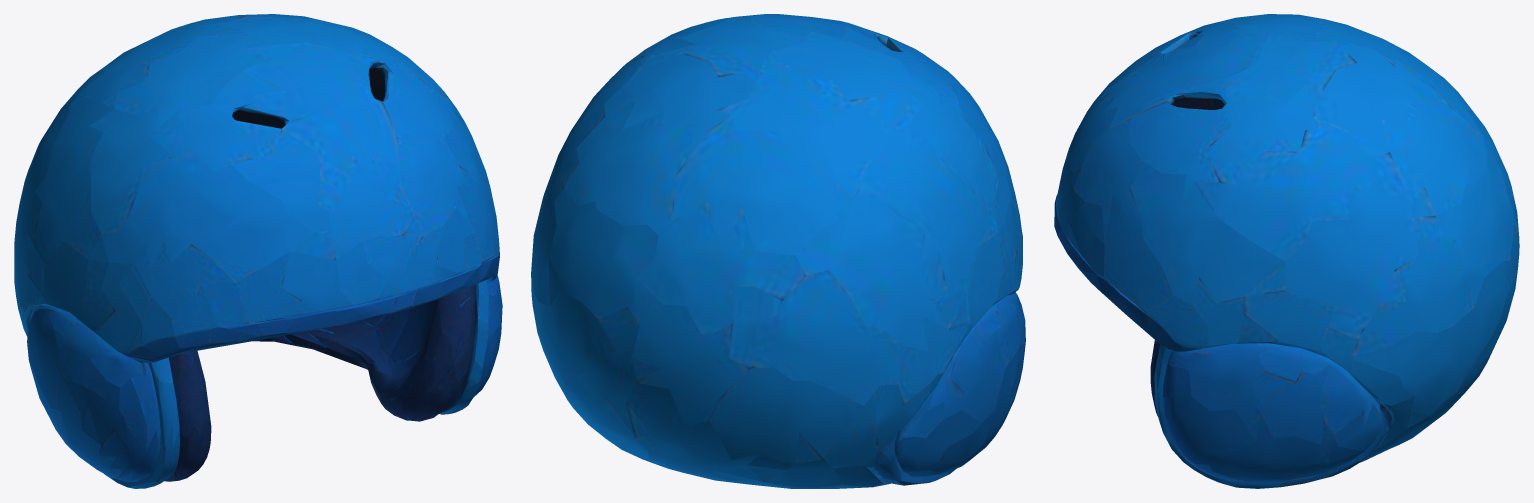
File: udstyr-skihjelm.glb
3 renders of one model, left to right at view 1: azimuth 30°, elevation 25°; view 2: azimuth 150°, elevation 25°; view 3: azimuth 270°, elevation 25°, orthographic. The views are drawn at different scales.
Bounding box in the file's own units: 1.89 × 1.69 × 1.9.
Materials: 1 (1 with a texture image).
